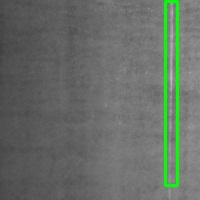scratches: (165, 1, 177, 185)
